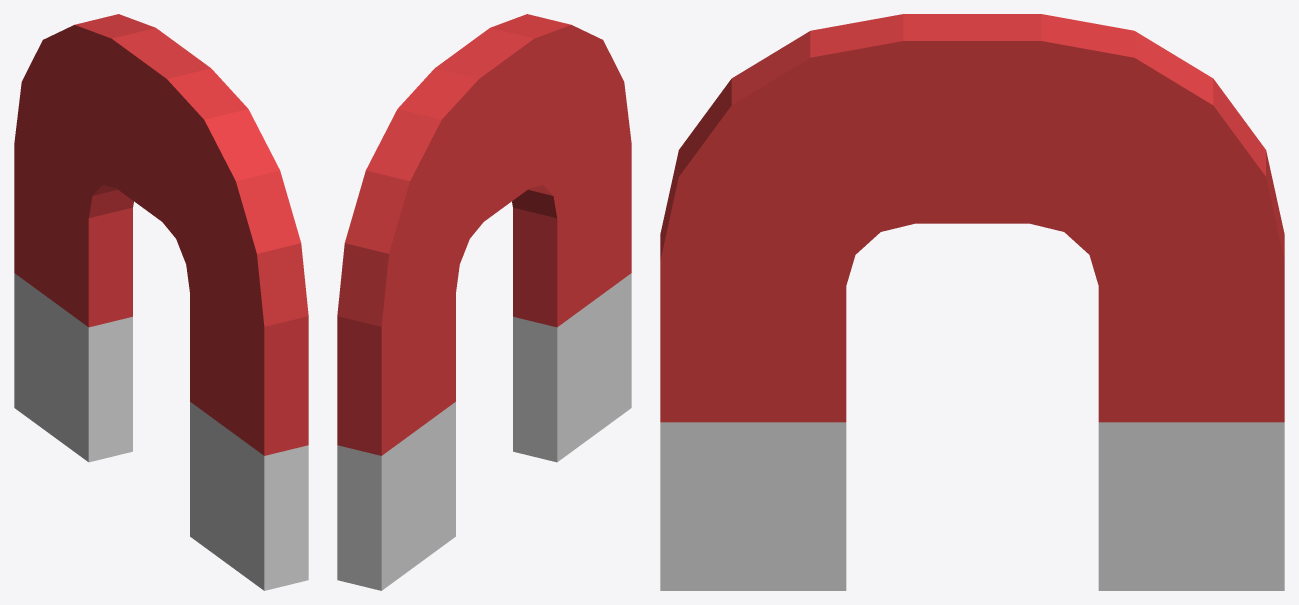
File: MagnetPowerup.fbx
3 views of the same model, side by side, from view 1: azimuth 30°, elevation 25°; view 2: azimuth 150°, elevation 25°; view 3: azimuth 270°, elevation 25° (orthographic). The views are drawn at different scales.
Visible parts, largest first — view 1: Cube; view 2: Cube; view 3: Cube.
Part boxes in pixels (x1,y1,x2,y2): Cube: [14, 14, 308, 590]; Cube: [337, 14, 631, 590]; Cube: [660, 14, 1284, 590].
Size of the model in its own units: 29.84 by 283 by 292.
